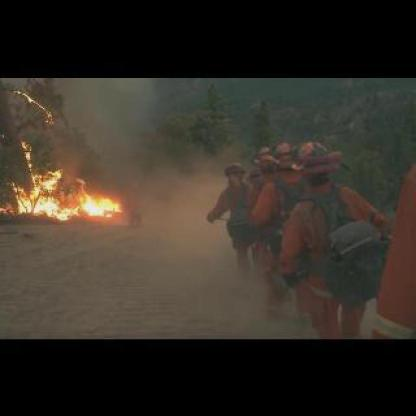fire: (1, 133, 126, 225), (13, 86, 53, 121)
